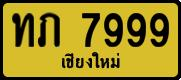letters: (11, 12, 36, 48), (37, 12, 62, 47), (125, 12, 147, 48), (103, 12, 124, 48), (149, 12, 170, 48), (81, 12, 101, 48)
province: (60, 51, 122, 69)
